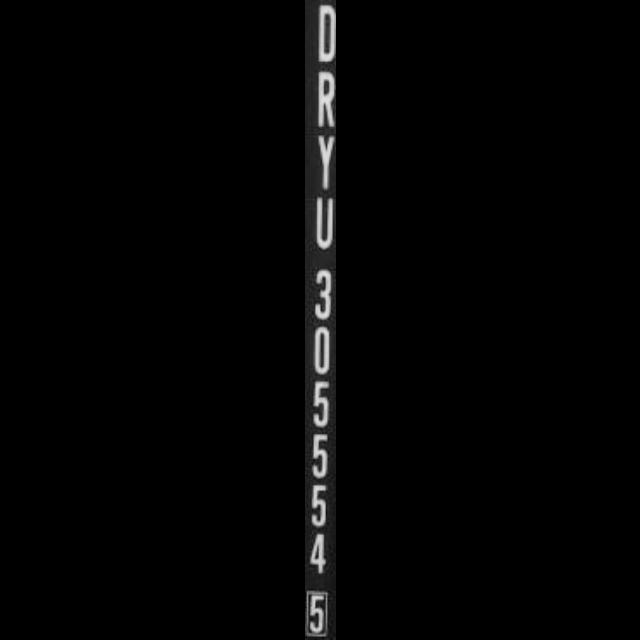0: (309, 322, 335, 372)
3: (309, 260, 335, 326)
4: (304, 526, 336, 576)
5: (304, 586, 336, 640), (304, 431, 336, 483), (304, 476, 336, 526), (309, 375, 335, 433)
d: (309, 0, 335, 66)
r: (306, 64, 336, 122)
u: (311, 190, 335, 258)
y: (309, 126, 335, 190)
